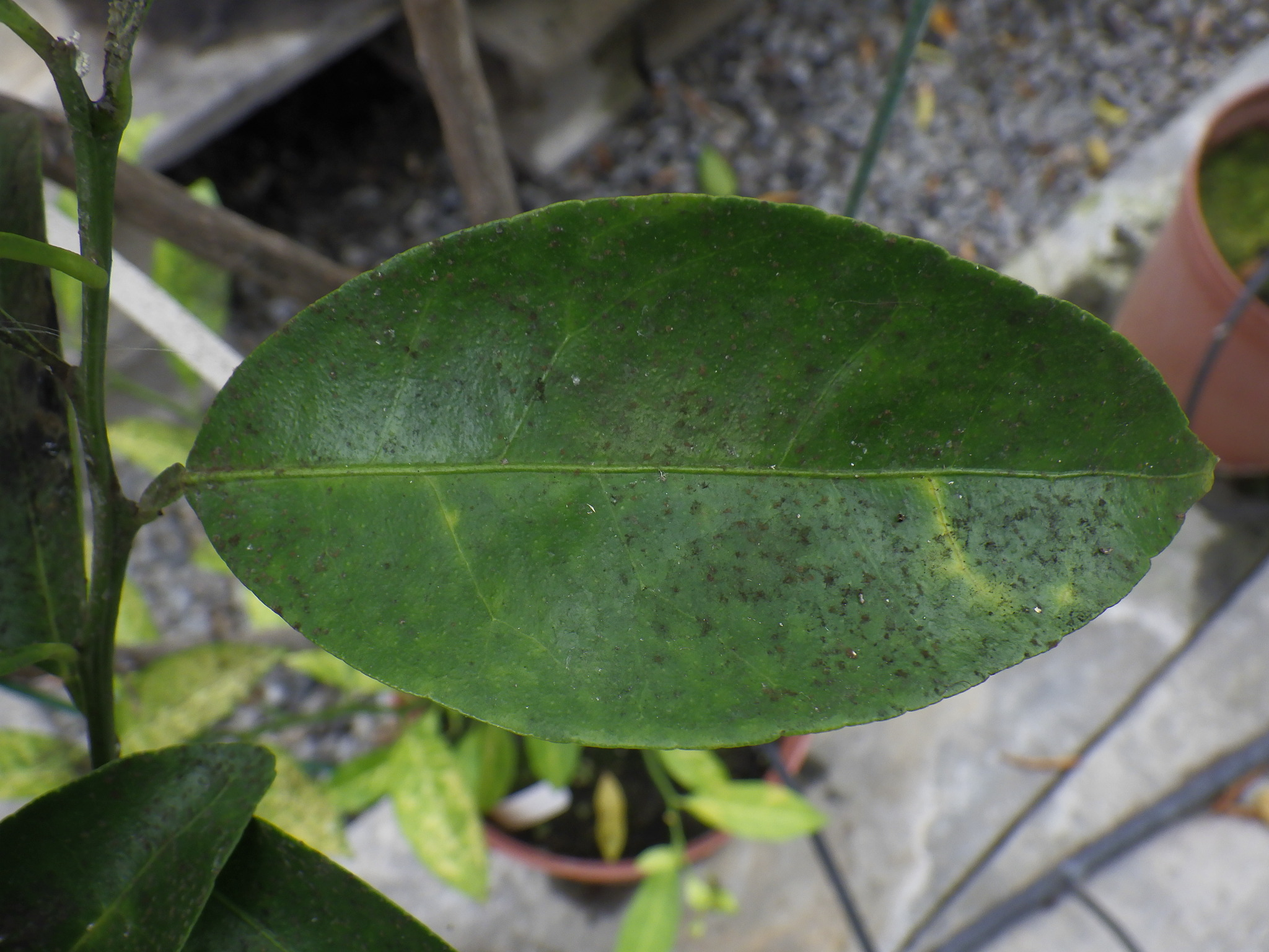Sooty_Mold: (186, 196, 1211, 746)
